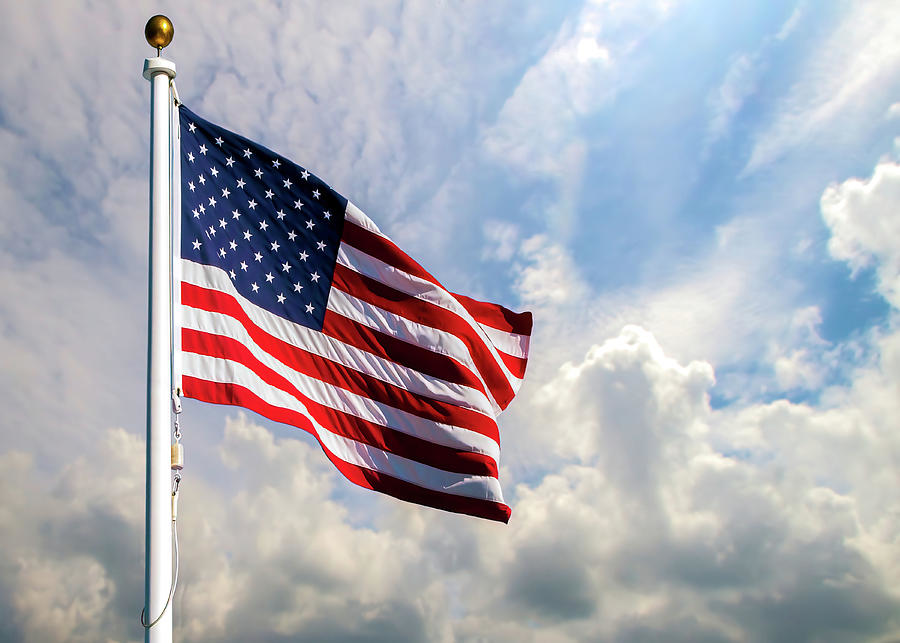America flag: (174, 102, 541, 529)
